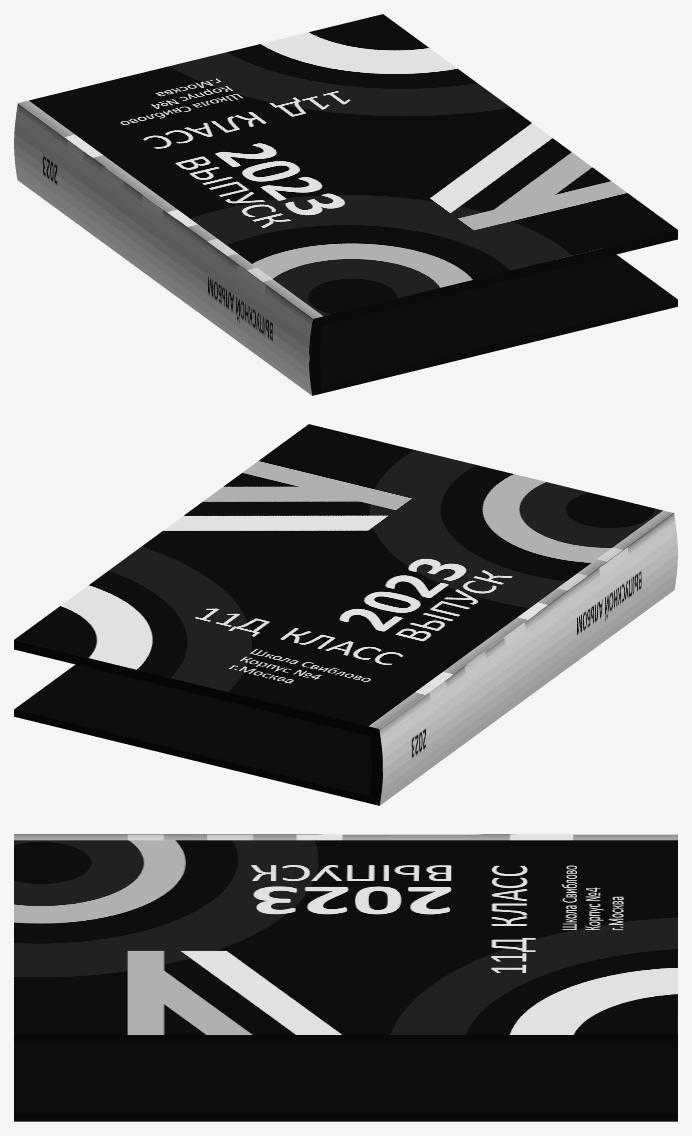
File: book.gltf
3 views of the same model, one above another, from view 1: azimuth 30°, elevation 25°; view 2: azimuth 150°, elevation 25°; view 3: azimuth 270°, elevation 25° (orthographic). The views are drawn at different scales.
Parts seen in each view (by area): view 1: BookCover; view 2: BookCover; view 3: BookCover.
Part boxes in pixels (<box>): BookCover: <box>14,14,677,395</box>; BookCover: <box>14,424,677,805</box>; BookCover: <box>14,834,677,1121</box>.
Bounding box in the file's own units: 1.45 × 0.2874 × 2.
Materials: 1 (1 with a texture image).
